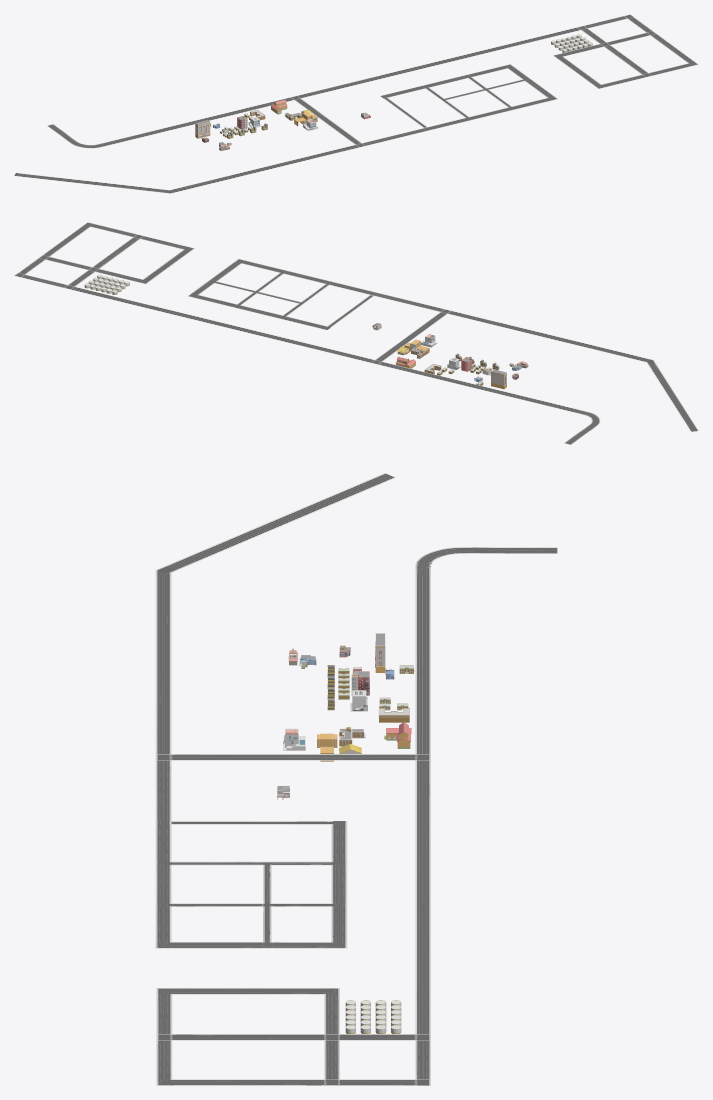
The picture shows the model from 3 angles, top to bottom: view 1: azimuth 30°, elevation 25°; view 2: azimuth 150°, elevation 25°; view 3: azimuth 270°, elevation 25°; orthographic projection. The views are drawn at different scales.
Parts seen in each view (by area): view 1: 平面, 白罐子; view 2: 平面, 白罐子; view 3: 平面, 白罐子.
Part boxes in pixels (<box>): 平面: <box>14,14,698,193</box>; 白罐子: <box>551,34,592,52</box>; 平面: <box>14,222,698,444</box>; 白罐子: <box>84,274,129,294</box>; 平面: <box>155,473,557,1085</box>; 白罐子: <box>345,1000,401,1033</box>.
Bounding box in the file's own units: 63.86 × 1.35 × 17.69.
Materials: 304 (3 with a texture image).
